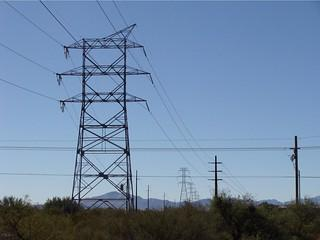power_tower: (56, 16, 150, 210)
